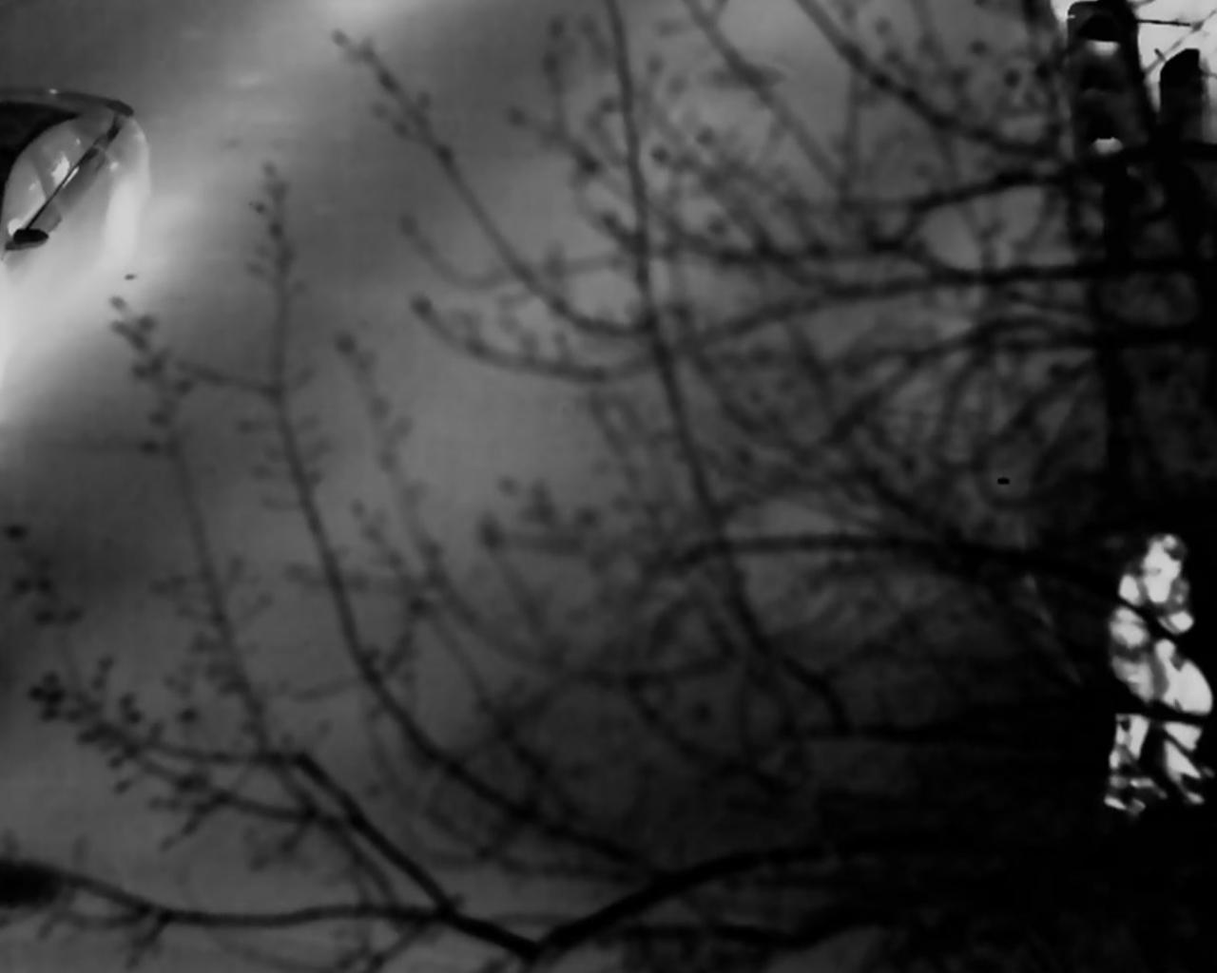person: (1105, 528, 1211, 817)
